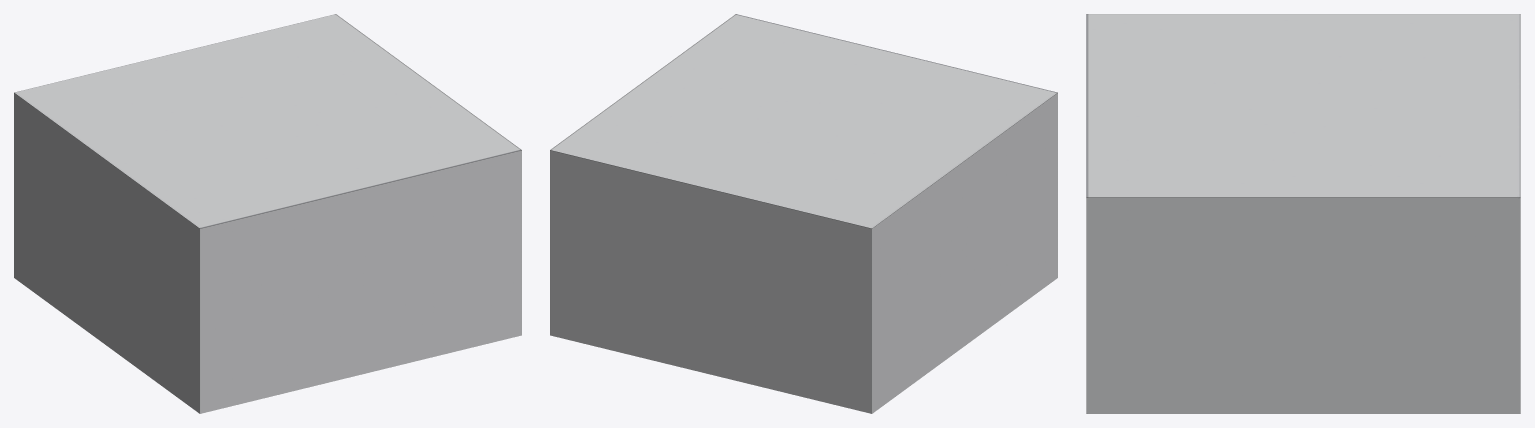
Rendered from Cyclo_01.FBX.
3 views of the same model, side by side, from view 1: azimuth 30°, elevation 25°; view 2: azimuth 150°, elevation 25°; view 3: azimuth 270°, elevation 25° (orthographic). The views are drawn at different scales.
Visible parts, largest first — view 1: Cyclo_01; view 2: Cyclo_01; view 3: Cyclo_01.
Boxes of the visible parts, x1,y1,x2,y2 form: Cyclo_01: [14, 14, 521, 413]; Cyclo_01: [550, 14, 1057, 413]; Cyclo_01: [1086, 14, 1520, 413].
Size of the model in its own units: 40 by 22 by 40.
1 material, 1 textured.
